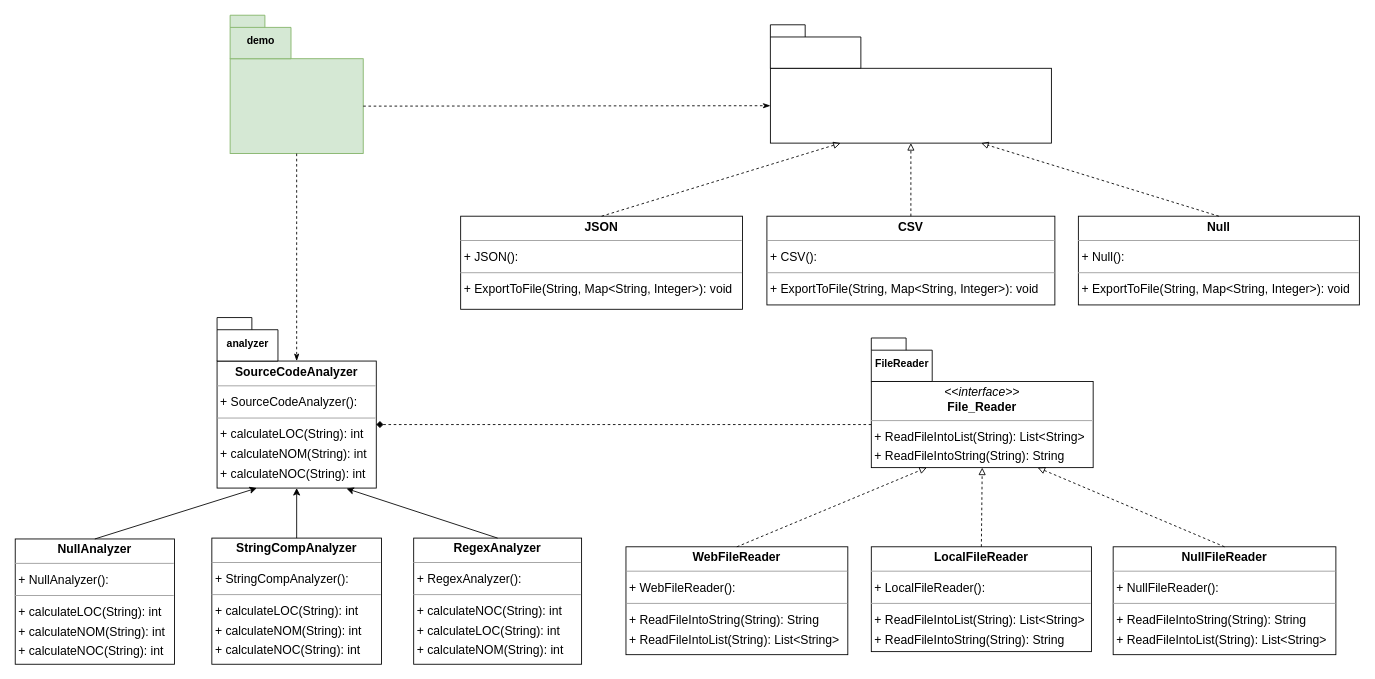
Image size: 1375x679. Some labels were removed from this diagram. The box of each missing label's shape, as (x1, y1, x2, y2) in pixels:
<<interface>> MetricsExporter + ExportToFile(String, Map<String, Integer>): void: (770, 67, 1051, 143)
DemoClient + DemoClient(): + main(String[]): void: (229, 58, 363, 154)
MetricsExporter: (770, 24, 861, 68)
